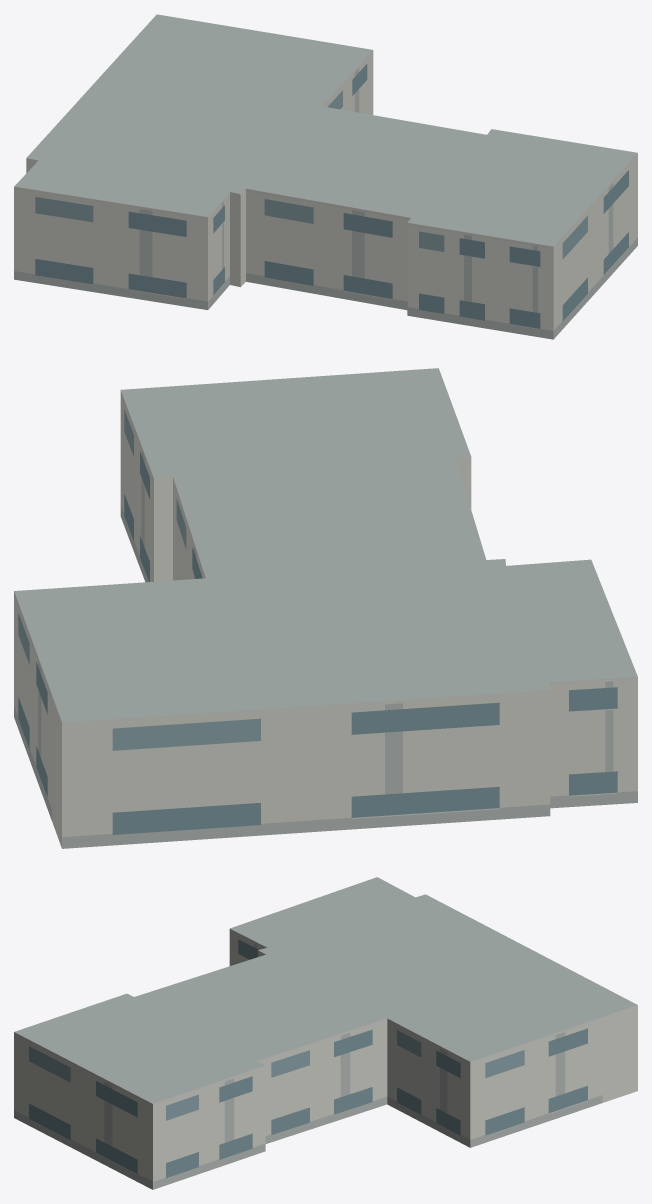
Rendered from survey-upis-32644352.glb.
3 renders of one model, top to bottom at view 1: azimuth 30°, elevation 25°; view 2: azimuth 150°, elevation 25°; view 3: azimuth 270°, elevation 25°, orthographic. The views are drawn at different scales.
Parts seen in each view (by area): view 1: survey-upis-32644352.tmp; view 2: survey-upis-32644352.tmp; view 3: survey-upis-32644352.tmp.
Boxes of the visible parts, x1=… form: survey-upis-32644352.tmp: x1=14, y1=14, x2=637, y2=339; survey-upis-32644352.tmp: x1=14, y1=368, x2=637, y2=848; survey-upis-32644352.tmp: x1=14, y1=877, x2=637, y2=1189.
Size of the model in its own units: 51.75 by 9.15 by 60.14.
